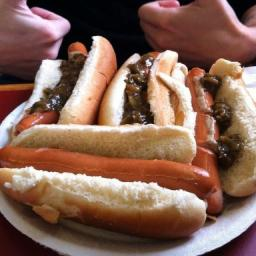hotdog: (1, 142, 217, 200), (188, 66, 230, 204), (13, 102, 58, 138), (66, 40, 85, 66)
